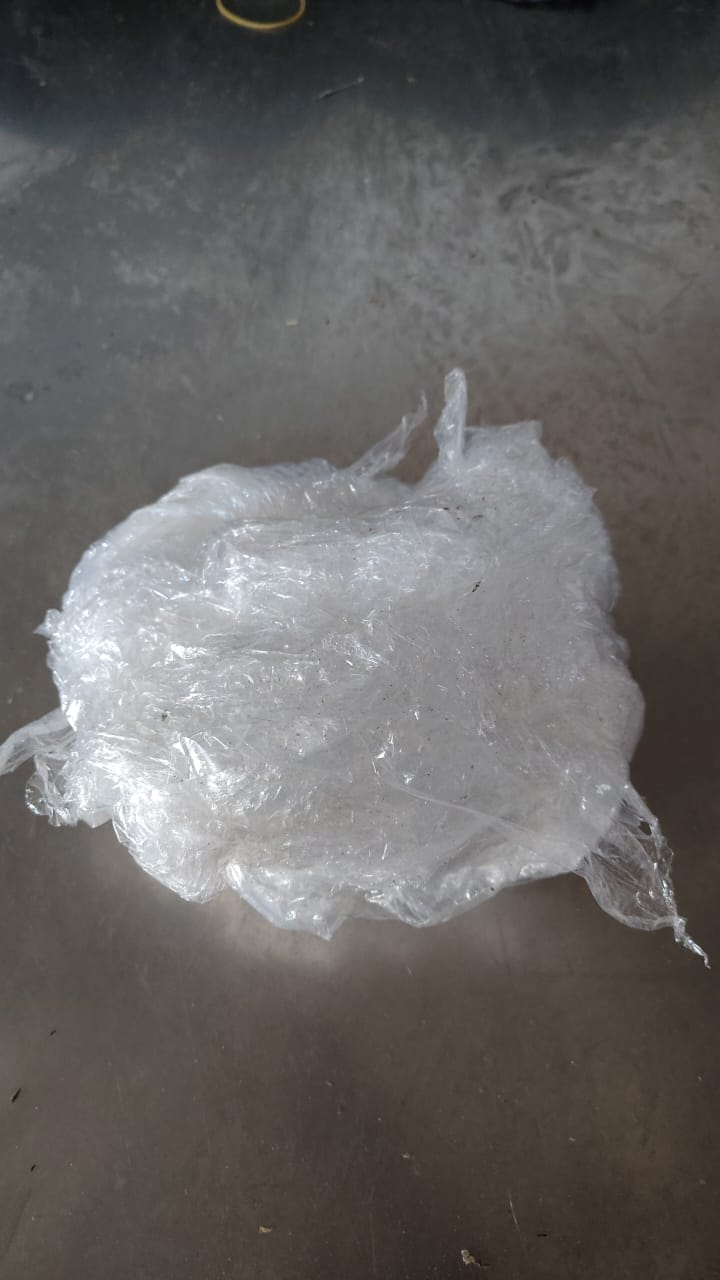Plastico: (0, 370, 720, 964)
